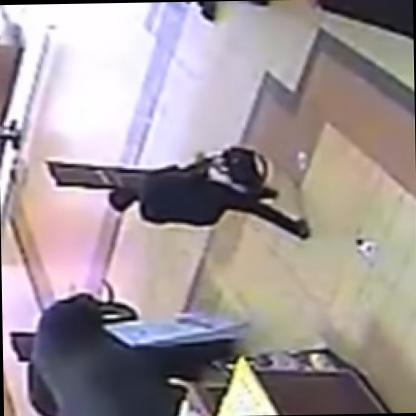Human Body: (107, 160, 312, 246)
